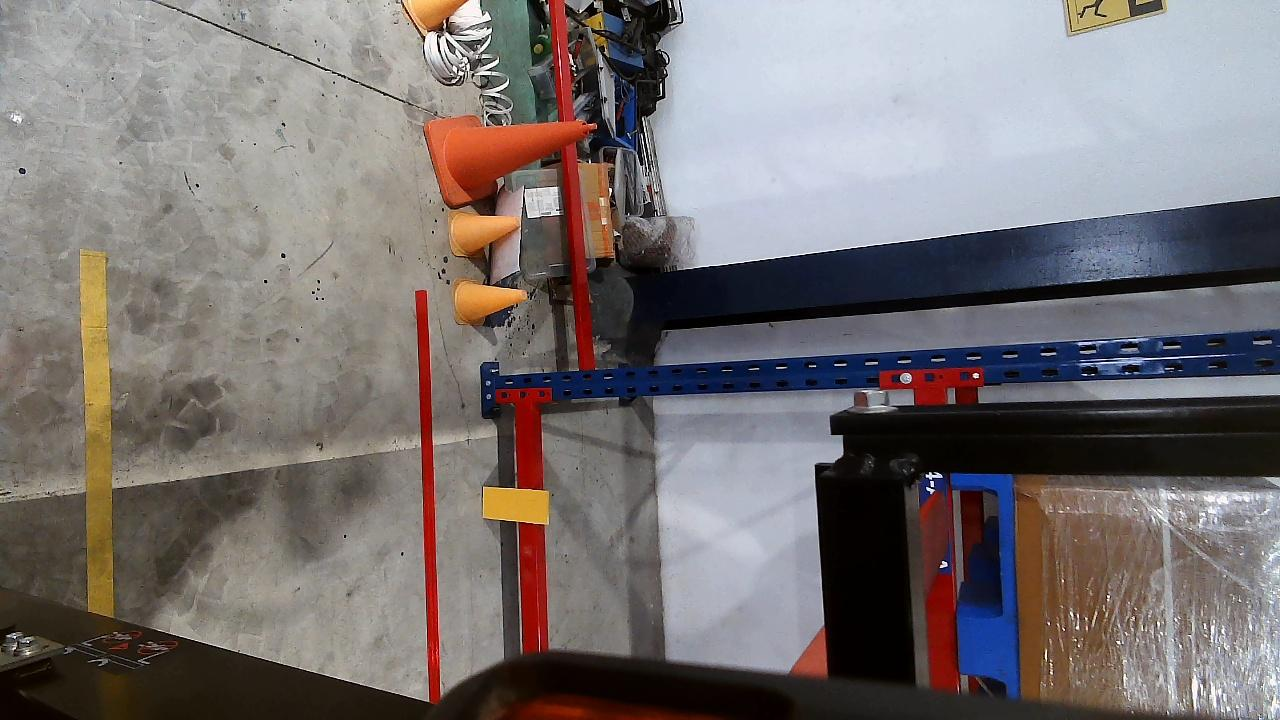h_rack: (920, 477, 961, 692), (512, 402, 545, 653)
orange_strip: (482, 486, 550, 523)
red_line: (414, 292, 444, 704)
small_pallet: (949, 473, 1019, 695)
yellow_line: (80, 250, 113, 618)
